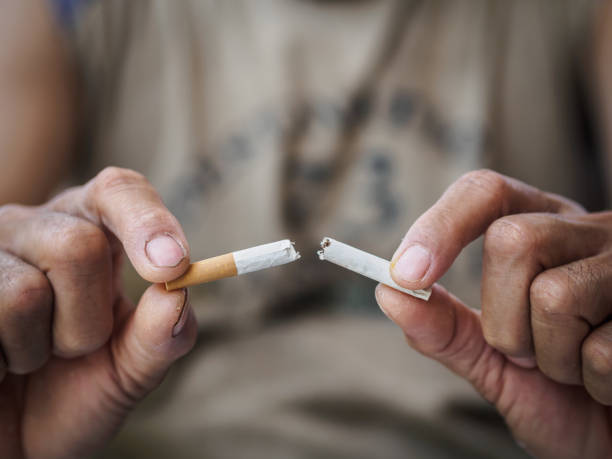cigarette: (312, 234, 434, 303), (163, 236, 302, 293)
